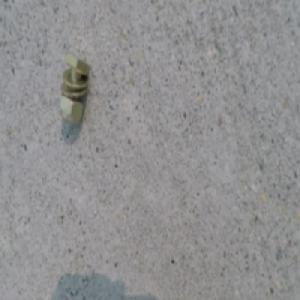BoltNutSet: (61, 60, 91, 130)
